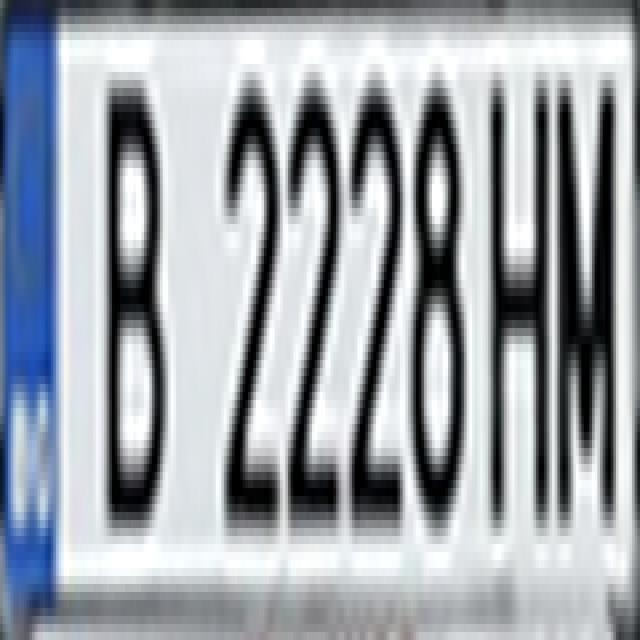licenseplate: (4, 6, 638, 608)
